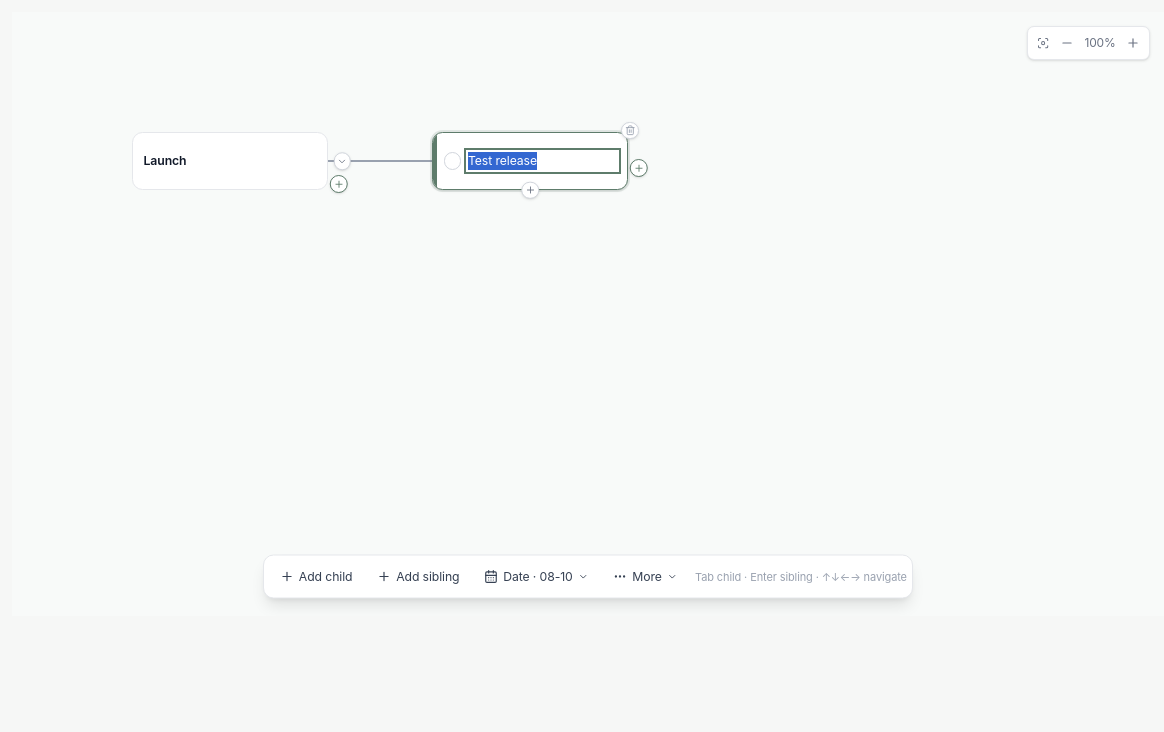
it: EventCanvas node actions › keeps Remove from day and Delete node in the More menu
The width and height of the screenshot is (1164, 732).
Click the button "More" at (645, 577), box [602,561,688,592]
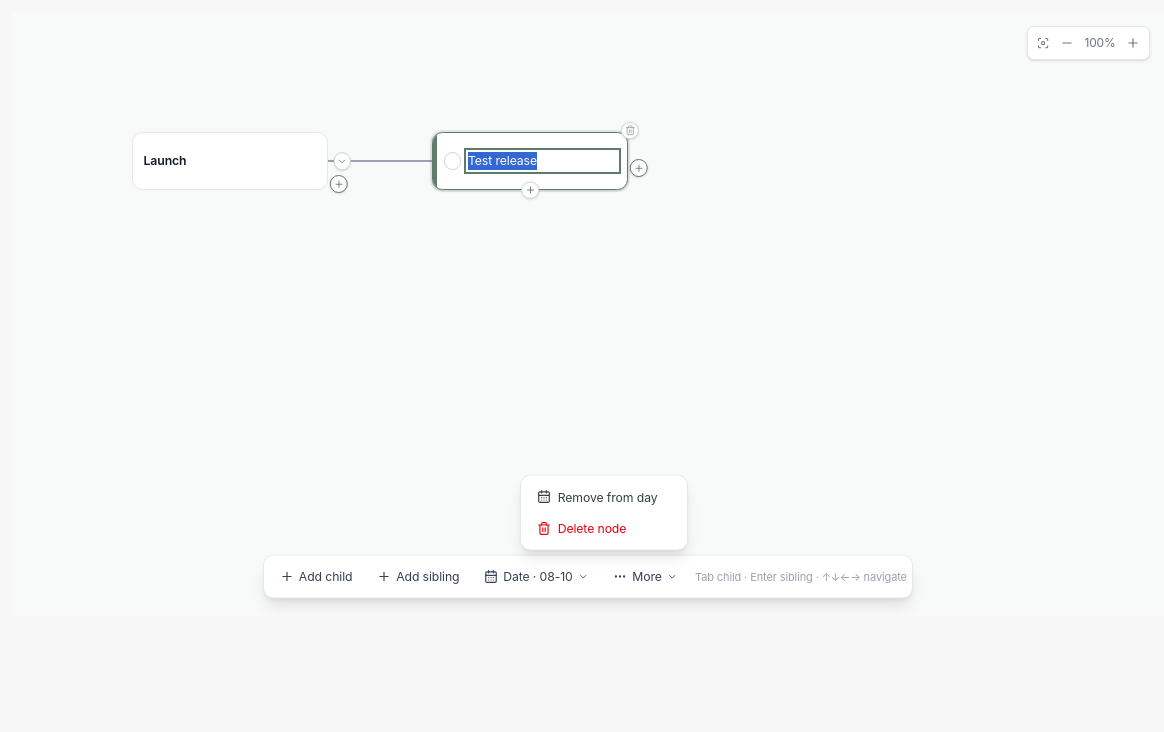
Result: the button "Remove from day" is shown at [526,481,682,512]
Result: the button "Delete node" is shown at [526,512,682,544]
